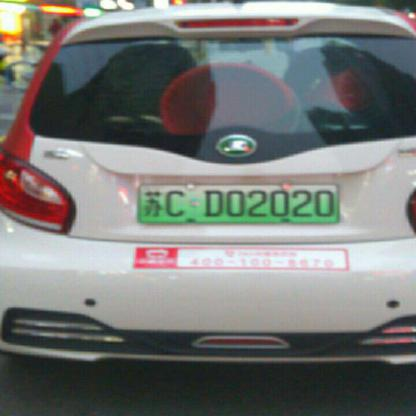lp: (139, 184, 339, 222)
